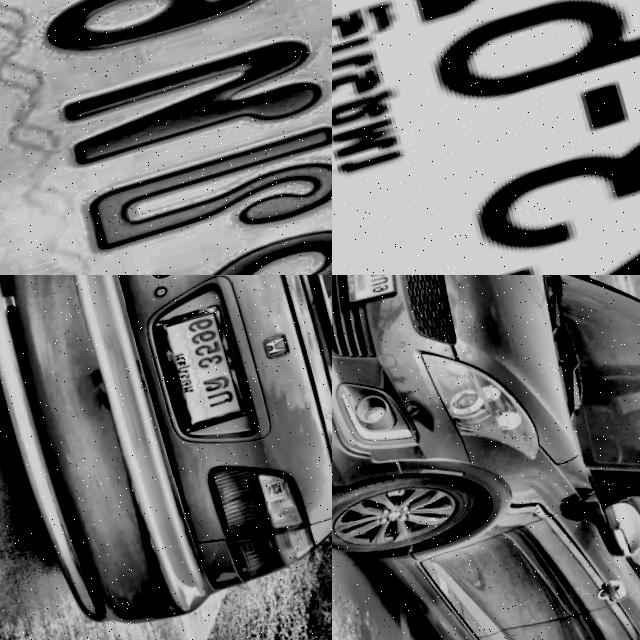license-plate: (0, 0, 332, 275), (332, 0, 640, 275), (145, 304, 248, 439), (332, 275, 405, 306)
